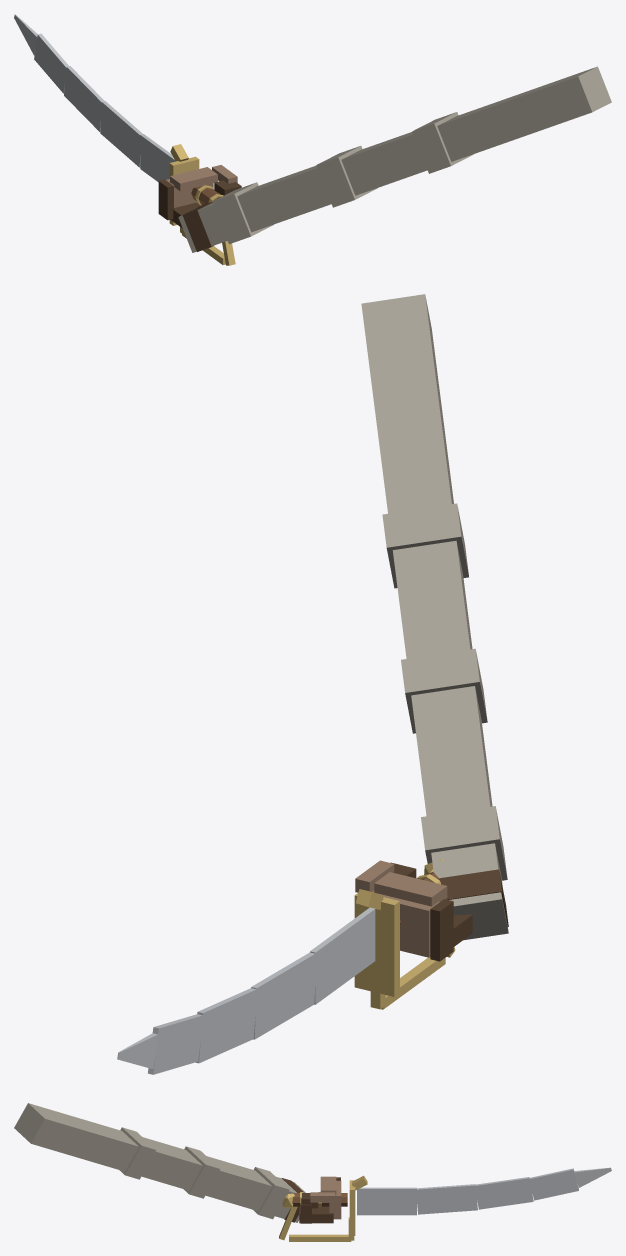
File: cutlass.glb
The picture shows the model from 3 angles, top to bottom: view 1: azimuth 30°, elevation 25°; view 2: azimuth 150°, elevation 25°; view 3: azimuth 270°, elevation 25°; orthographic projection. The views are drawn at different scales.
Visible parts, largest first — view 1: CR_Forearm, C_Blade1, CR_Wrap0, CR_Wrap2, CR_Wrap1, C_Blade2, C_Blade0, C_Blade3, CR_Tips, CR_Bracelet, CR_Knuckles, C_Guard (+2 smaller); view 2: CR_Forearm, C_Blade0, C_Blade1, CR_Wrap2, CR_Wrap1, CR_Wrap0, C_Guard, C_Blade2, C_Blade3, CR_Fingers, CR_Tips, CR_Bracelet (+1 smaller); view 3: CR_Forearm, C_Blade0, C_Blade1, C_Blade2, C_Blade3, CR_Wrap0, CR_Wrap1, CR_Wrap2, C_Bow, C_Blade4, CR_Palm, C_Guard (+6 smaller).
Part boxes in pixels (<box>): CR_Forearm: <box>178,66,611,252</box>; C_Blade1: <box>100,101,142,167</box>; CR_Wrap0: <box>212,182,273,244</box>; CR_Wrap2: <box>412,112,473,173</box>; CR_Wrap1: <box>316,146,377,207</box>; C_Blade2: <box>64,66,104,131</box>; C_Blade0: <box>140,134,175,182</box>; C_Blade3: <box>34,33,68,93</box>; CR_Tips: <box>170,167,217,191</box>; CR_Bracelet: <box>182,202,213,251</box>; CR_Knuckles: <box>158,179,173,220</box>; C_Guard: <box>169,156,199,225</box>; CR_Forearm: <box>361,294,508,940</box>; C_Blade0: <box>310,907,375,1004</box>; C_Blade1: <box>251,952,316,1039</box>; CR_Wrap2: <box>382,503,468,588</box>; CR_Wrap1: <box>401,648,487,733</box>; CR_Wrap0: <box>421,806,507,880</box>; C_Guard: <box>354,893,399,996</box>; C_Blade2: <box>195,988,257,1063</box>; C_Blade3: <box>147,1014,202,1074</box>; CR_Fingers: <box>372,890,439,957</box>; CR_Tips: <box>374,872,447,906</box>; CR_Bracelet: <box>438,869,508,926</box>; CR_Forearm: <box>14,1103,305,1222</box>; C_Blade0: <box>357,1187,416,1215</box>; C_Blade1: <box>416,1184,477,1214</box>; C_Blade2: <box>475,1177,533,1209</box>; C_Blade3: <box>529,1168,578,1200</box>; CR_Wrap0: <box>253,1167,289,1219</box>; CR_Wrap1: <box>183,1146,220,1198</box>; CR_Wrap2: <box>119,1127,156,1179</box>; C_Bow: <box>289,1234,351,1241</box>; C_Blade4: <box>574,1167,611,1187</box>; CR_Palm: <box>299,1206,333,1223</box>; C_Guard: <box>349,1180,355,1235</box>.
Bounding box in the file's own units: 0.4981 × 0.4909 × 1.3.
